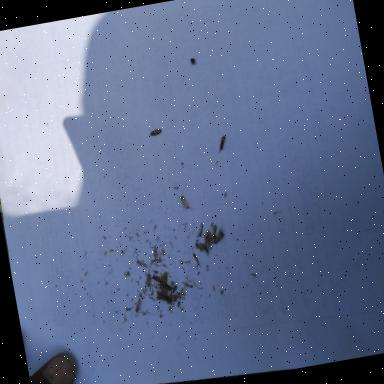pbw: (211, 226, 226, 244), (216, 134, 229, 154), (180, 194, 192, 210), (160, 271, 170, 286), (160, 280, 172, 292), (204, 235, 212, 253), (134, 298, 143, 313), (197, 222, 205, 237), (195, 242, 207, 252), (210, 224, 218, 238), (150, 128, 162, 137), (145, 272, 152, 287), (206, 230, 213, 244), (192, 252, 198, 264)
